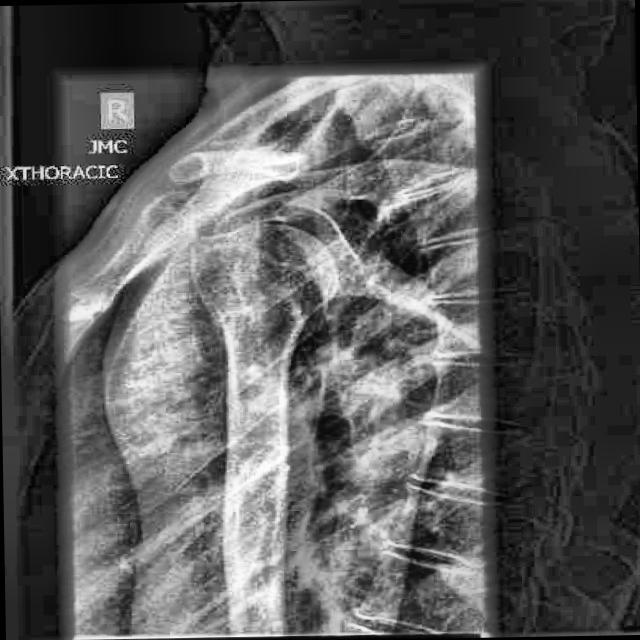shoulder fracture: (185, 272, 285, 371)
